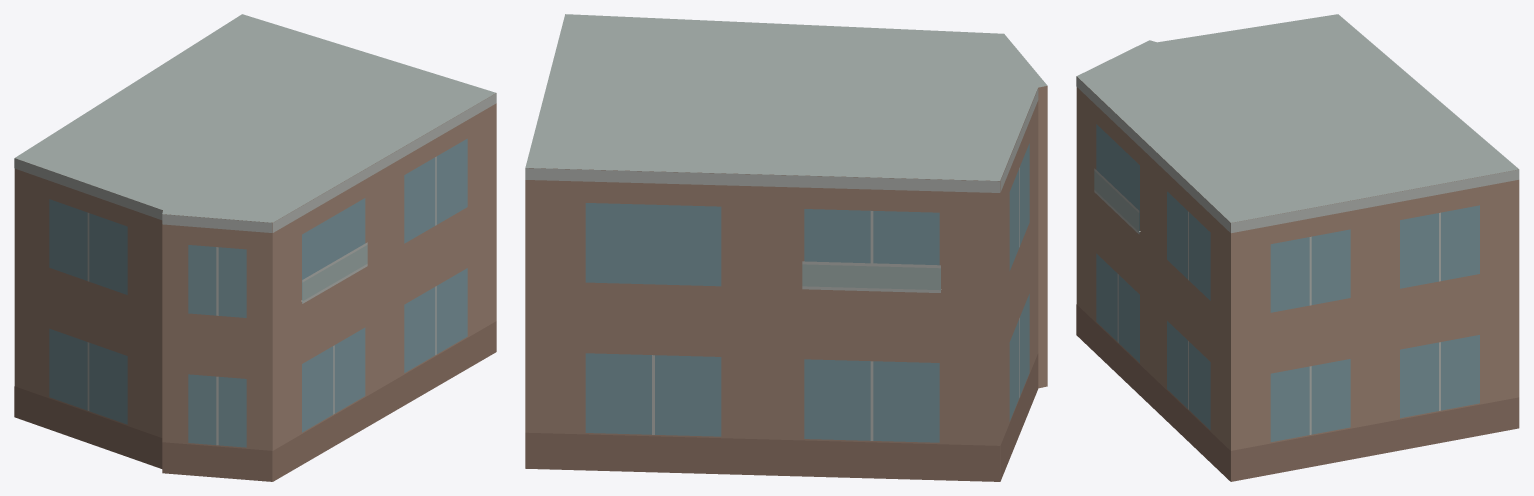
Rendered from survey-upis-32939335.glb.
3 views of the same model, side by side, from view 1: azimuth 30°, elevation 25°; view 2: azimuth 150°, elevation 25°; view 3: azimuth 270°, elevation 25° (orthographic). The views are drawn at different scales.
Parts seen in each view (by area): view 1: survey-upis-32939335.tmp; view 2: survey-upis-32939335.tmp; view 3: survey-upis-32939335.tmp.
Boxes of the visible parts, x1,y1,x2,y2 form: survey-upis-32939335.tmp: [14, 14, 496, 481]; survey-upis-32939335.tmp: [525, 14, 1047, 481]; survey-upis-32939335.tmp: [1076, 14, 1519, 481].
Bounding box in the file's own units: 10.57 × 6.1 × 9.47.
